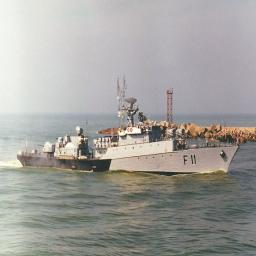Fragata: (13, 81, 244, 179)
